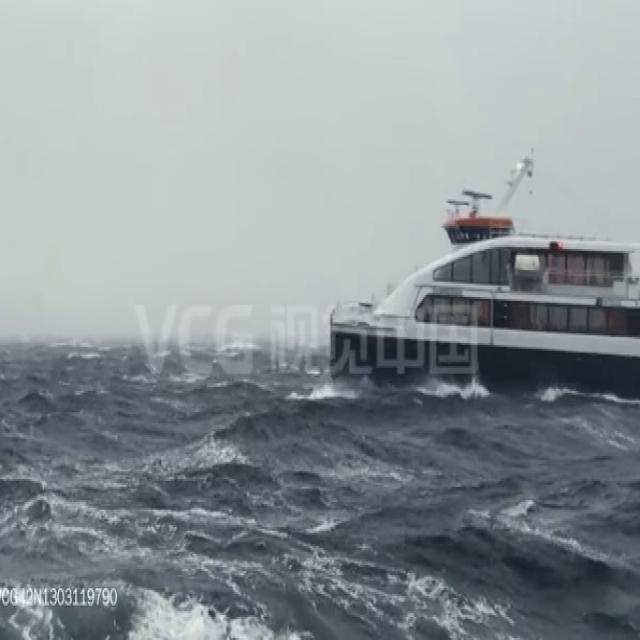passenger ship: (328, 166, 640, 400)
